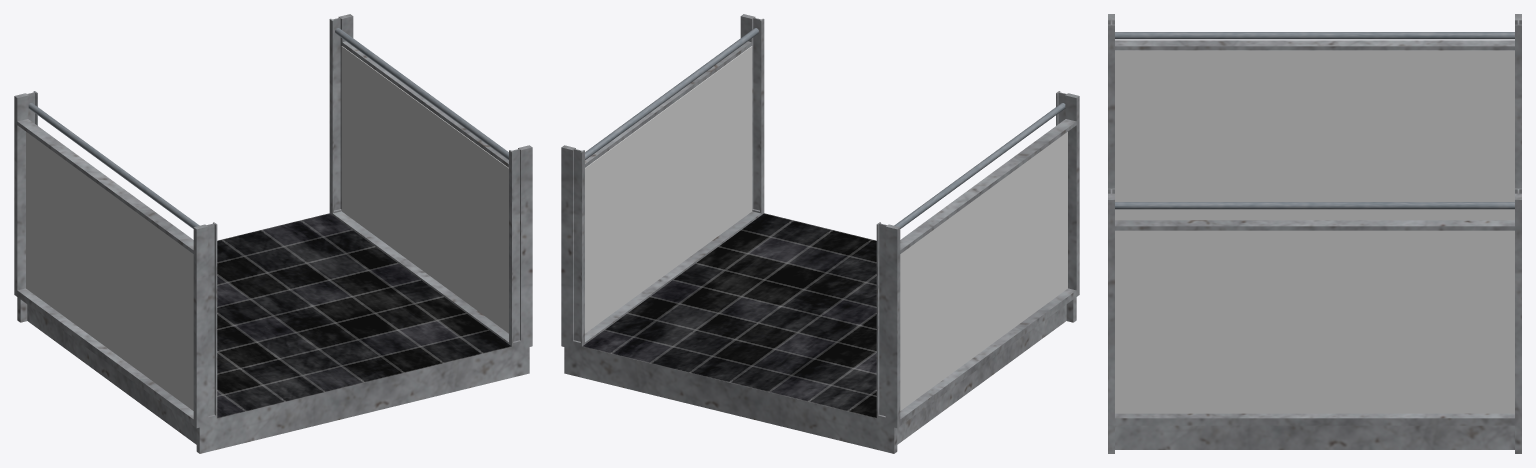
File: BridgeNoRoof.fbx
3 renders of one model, left to right at view 1: azimuth 30°, elevation 25°; view 2: azimuth 150°, elevation 25°; view 3: azimuth 270°, elevation 25°, orthographic. The views are drawn at different scales.
Visible parts, largest first — view 1: BridgeNoRoof; view 2: BridgeNoRoof; view 3: BridgeNoRoof.
Boxes of the visible parts, x1,y1,x2,y2 form: BridgeNoRoof: [14, 14, 532, 453]; BridgeNoRoof: [561, 14, 1079, 453]; BridgeNoRoof: [1108, 14, 1521, 453].
Size of what is drawn, in the model's own units: 213 by 136 by 200.
